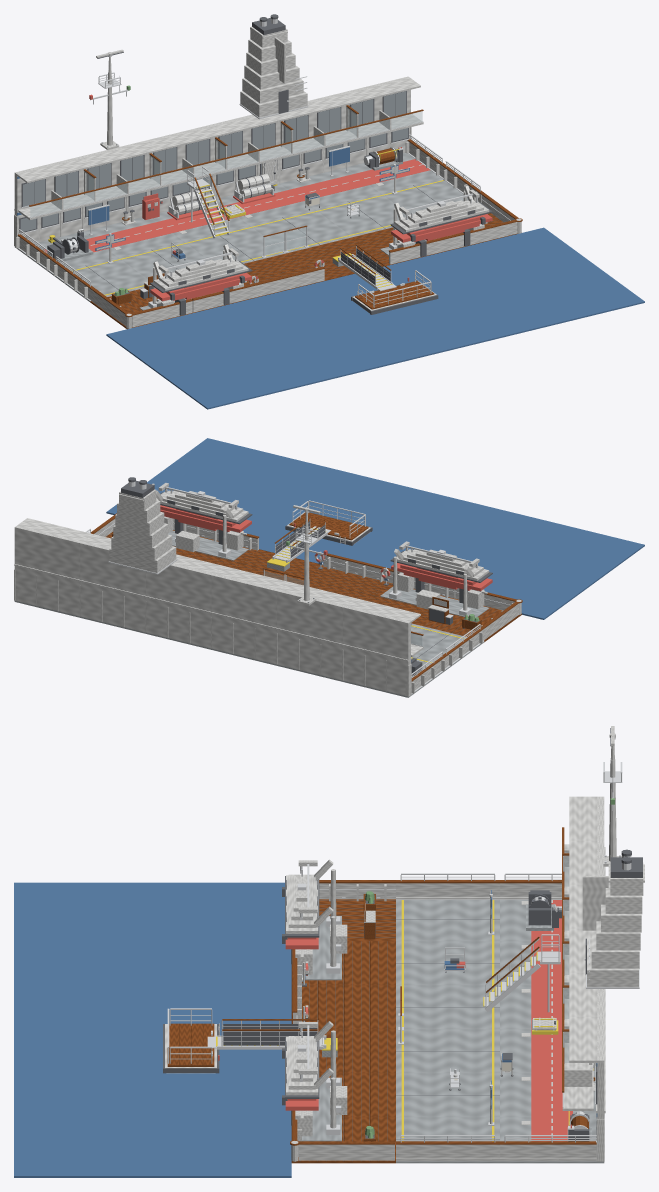
File: cruise-ship-deck-and-lounge-cruise-ship-deck-and-loung-916535ca__38463.glb
3 views of the same model, one above another, from view 1: azimuth 30°, elevation 25°; view 2: azimuth 150°, elevation 25°; view 3: azimuth 270°, elevation 25° (orthographic). The views are drawn at different scales.
Visible parts, largest first — view 1: 001-cruise-ship-deck-and-lounge-sea-surface-tile/0, 003-cruise-ship-deck-and-lounge-sea-surface-tile/0, 007-cruise-ship-deck-and-lounge-sea-surface-tile/0, 009-cruise-ship-deck-and-lounge-sea-surface-tile/0, 005-cruise-ship-deck-and-lounge-sea-surface-tile/0, 000-cruise-ship-deck-and-lounge-sea-surface-tile/0, 002-cruise-ship-deck-and-lounge-sea-surface-tile/0, 008-cruise-ship-deck-and-lounge-sea-surface-tile/0, 049-cruise-ship-deck-and-lounge-funnel-section/0, 006-cruise-ship-deck-and-lounge-sea-surface-tile/0, 004-cruise-ship-deck-and-lounge-sea-surface-tile/0, 038-cruise-ship-deck-and-lounge-superstructure-balcony-run/0 (+54 smaller); view 2: 001-cruise-ship-deck-and-lounge-sea-surface-tile/0, 009-cruise-ship-deck-and-lounge-sea-surface-tile/0, 003-cruise-ship-deck-and-lounge-sea-surface-tile/0, 005-cruise-ship-deck-and-lounge-sea-surface-tile/0, 007-cruise-ship-deck-and-lounge-sea-surface-tile/0, 049-cruise-ship-deck-and-lounge-funnel-section/0, 000-cruise-ship-deck-and-lounge-sea-surface-tile/0, 038-cruise-ship-deck-and-lounge-superstructure-balcony-run/0, 043-cruise-ship-deck-and-lounge-superstructure-balcony-run/0, 040-cruise-ship-deck-and-lounge-superstructure-balcony-run/0, 039-cruise-ship-deck-and-lounge-superstructure-balcony-run/0, 041-cruise-ship-deck-and-lounge-superstructure-balcony-run/0 (+32 smaller); view 3: 009-cruise-ship-deck-and-lounge-sea-surface-tile/0, 008-cruise-ship-deck-and-lounge-sea-surface-tile/0, 001-cruise-ship-deck-and-lounge-sea-surface-tile/0, 007-cruise-ship-deck-and-lounge-sea-surface-tile/0, 003-cruise-ship-deck-and-lounge-sea-surface-tile/0, 005-cruise-ship-deck-and-lounge-sea-surface-tile/0, 002-cruise-ship-deck-and-lounge-sea-surface-tile/0, 000-cruise-ship-deck-and-lounge-sea-surface-tile/0, 006-cruise-ship-deck-and-lounge-sea-surface-tile/0, 049-cruise-ship-deck-and-lounge-funnel-section/0, 019-cruise-ship-deck-and-lounge-steel-deck-plate/0, 020-cruise-ship-deck-and-lounge-steel-deck-plate/0 (+46 smaller).
Part boxes in pixels (<box>): 001-cruise-ship-deck-and-lounge-sea-surface-tile/0: <box>157,350,294,409</box>; 003-cruise-ship-deck-and-lounge-sea-surface-tile/0: <box>245,328,382,388</box>; 007-cruise-ship-deck-and-lounge-sea-surface-tile/0: <box>419,286,557,345</box>; 009-cruise-ship-deck-and-lounge-sea-surface-tile/0: <box>507,264,644,323</box>; 005-cruise-ship-deck-and-lounge-sea-surface-tile/0: <box>332,307,469,366</box>; 000-cruise-ship-deck-and-lounge-sea-surface-tile/0: <box>106,313,243,372</box>; 002-cruise-ship-deck-and-lounge-sea-surface-tile/0: <box>194,291,331,349</box>; 008-cruise-ship-deck-and-lounge-sea-surface-tile/0: <box>457,227,593,285</box>; 049-cruise-ship-deck-and-lounge-funnel-section/0: <box>240,26,307,117</box>; 006-cruise-ship-deck-and-lounge-sea-surface-tile/0: <box>383,249,506,306</box>; 004-cruise-ship-deck-and-lounge-sea-surface-tile/0: <box>282,273,418,328</box>; 038-cruise-ship-deck-and-lounge-superstructure-balcony-run/0: <box>14,156,95,219</box>; 001-cruise-ship-deck-and-lounge-sea-surface-tile/0: <box>507,523,644,582</box>; 009-cruise-ship-deck-and-lounge-sea-surface-tile/0: <box>157,438,294,496</box>; 003-cruise-ship-deck-and-lounge-sea-surface-tile/0: <box>420,502,556,560</box>; 005-cruise-ship-deck-and-lounge-sea-surface-tile/0: <box>332,480,469,538</box>; 007-cruise-ship-deck-and-lounge-sea-surface-tile/0: <box>245,459,381,517</box>; 049-cruise-ship-deck-and-lounge-funnel-section/0: <box>109,483,176,572</box>; 000-cruise-ship-deck-and-lounge-sea-surface-tile/0: <box>483,560,594,619</box>; 038-cruise-ship-deck-and-lounge-superstructure-balcony-run/0: <box>342,598,423,659</box>; 043-cruise-ship-deck-and-lounge-superstructure-balcony-run/0: <box>14,518,92,579</box>; 040-cruise-ship-deck-and-lounge-superstructure-balcony-run/0: <box>211,566,289,627</box>; 039-cruise-ship-deck-and-lounge-superstructure-balcony-run/0: <box>277,582,354,643</box>; 041-cruise-ship-deck-and-lounge-superstructure-balcony-run/0: <box>146,554,223,611</box>; 009-cruise-ship-deck-and-lounge-sea-surface-tile/0: <box>14,1117,152,1177</box>; 008-cruise-ship-deck-and-lounge-sea-surface-tile/0: <box>153,1117,291,1177</box>; 001-cruise-ship-deck-and-lounge-sea-surface-tile/0: <box>14,882,152,941</box>; 007-cruise-ship-deck-and-lounge-sea-surface-tile/0: <box>14,1058,152,1117</box>; 003-cruise-ship-deck-and-lounge-sea-surface-tile/0: <box>14,941,152,999</box>; 005-cruise-ship-deck-and-lounge-sea-surface-tile/0: <box>14,1000,152,1058</box>; 002-cruise-ship-deck-and-lounge-sea-surface-tile/0: <box>153,941,291,999</box>; 000-cruise-ship-deck-and-lounge-sea-surface-tile/0: <box>153,882,284,941</box>; 006-cruise-ship-deck-and-lounge-sea-surface-tile/0: <box>153,1058,290,1117</box>; 049-cruise-ship-deck-and-lounge-funnel-section/0: <box>582,862,644,987</box>; 019-cruise-ship-deck-and-lounge-steel-deck-plate/0: <box>396,1029,499,1073</box>; 020-cruise-ship-deck-and-lounge-steel-deck-plate/0: <box>396,1073,499,1117</box>.
Size of the model in its own units: 40 by 14.66 by 36.35.
Materials: 11 (3 with a texture image).
